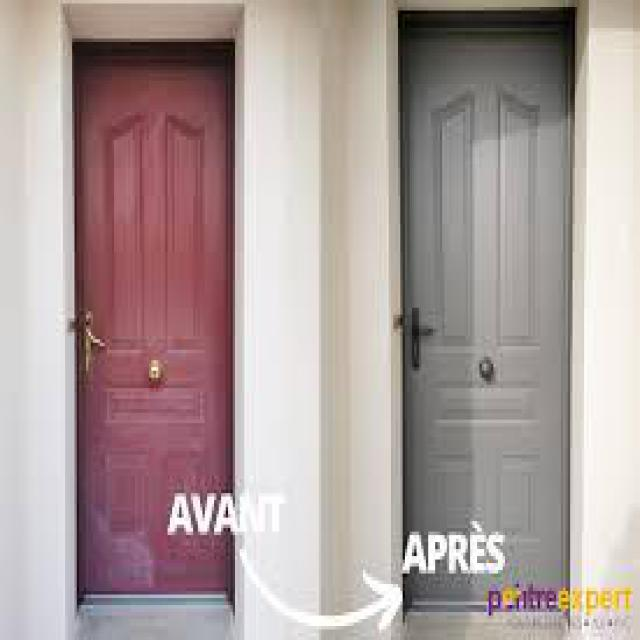close: (365, 14, 598, 636), (52, 7, 252, 630)
